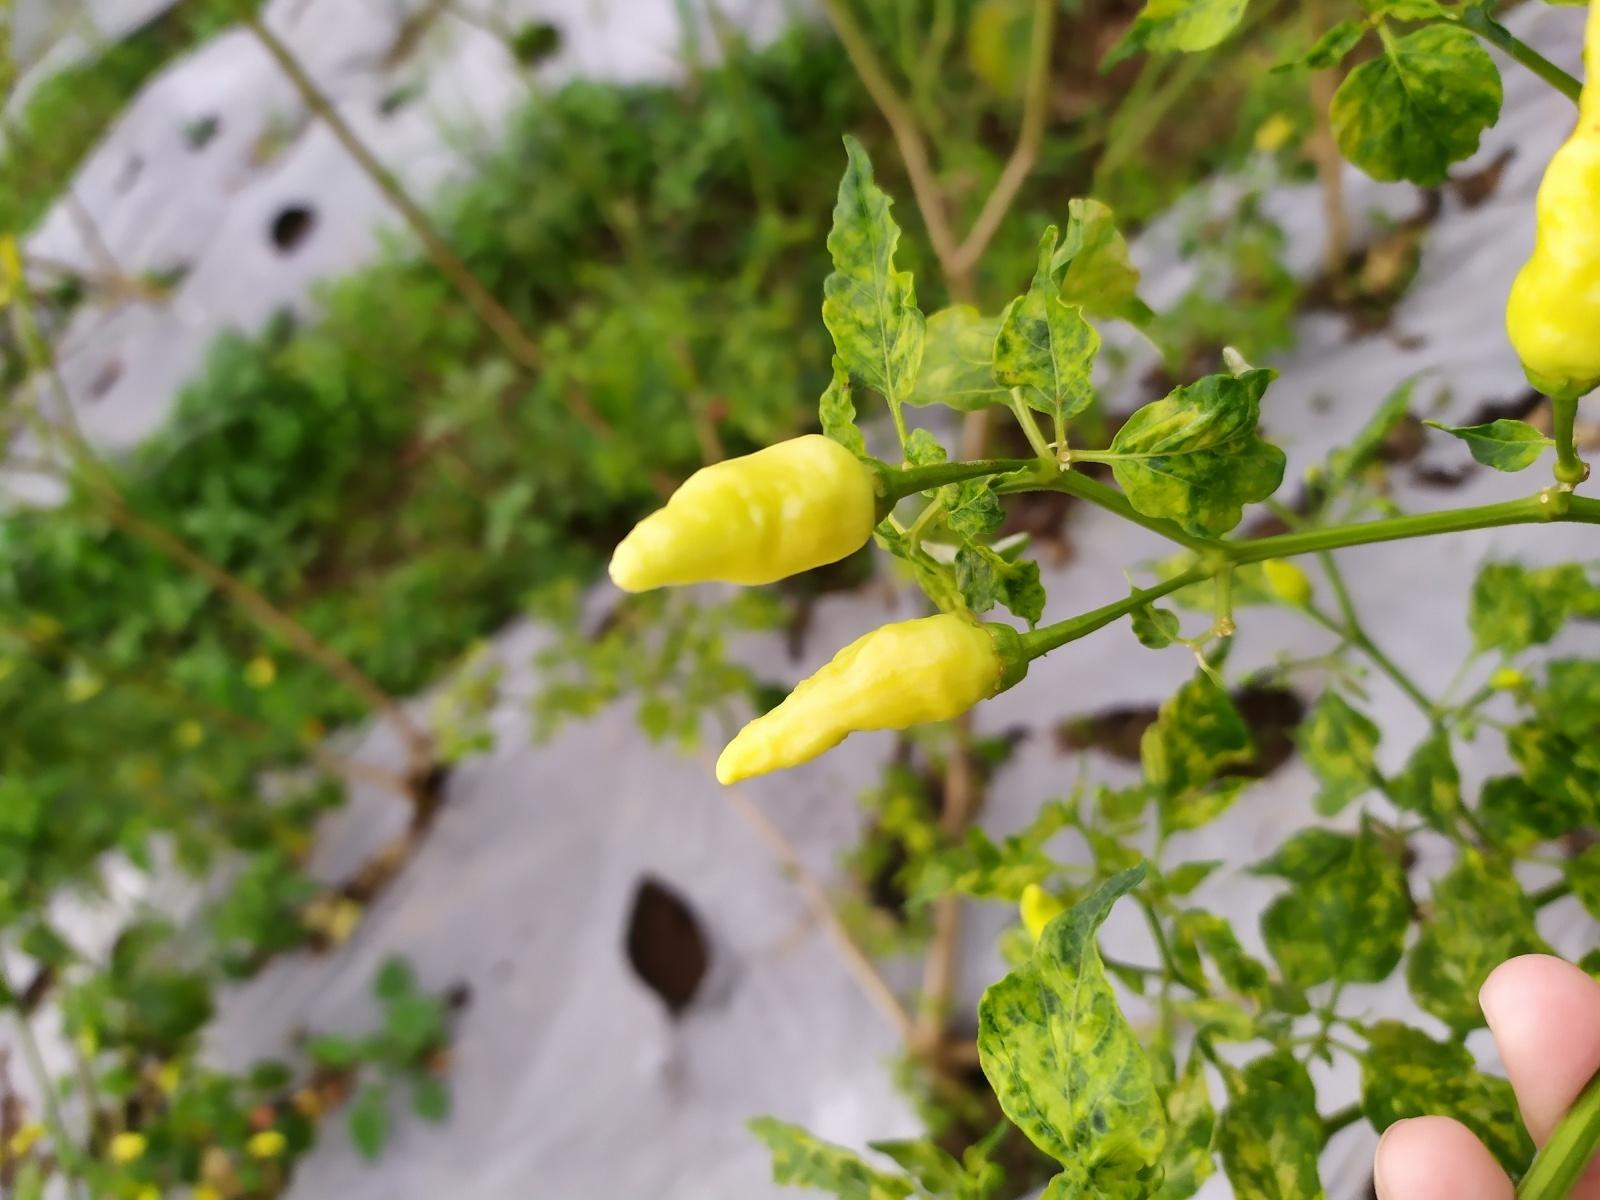cabai_normal: (712, 613, 1004, 787), (610, 437, 887, 600)
